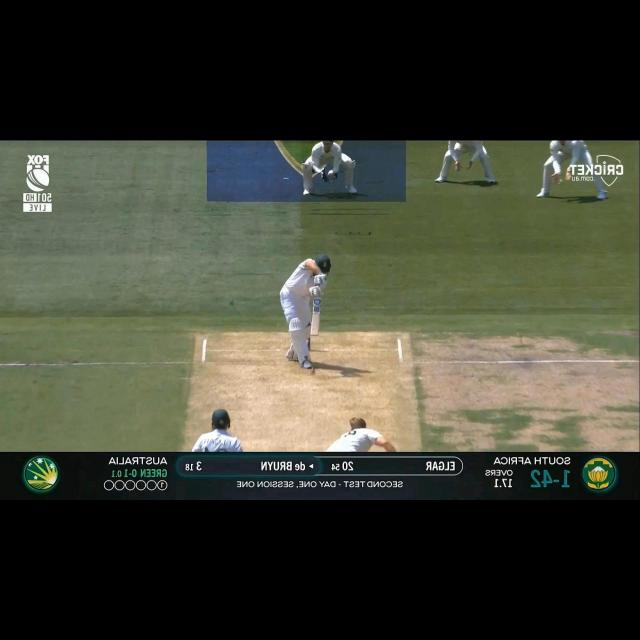bat: (310, 298, 321, 337)
toe: (310, 332, 320, 336)
